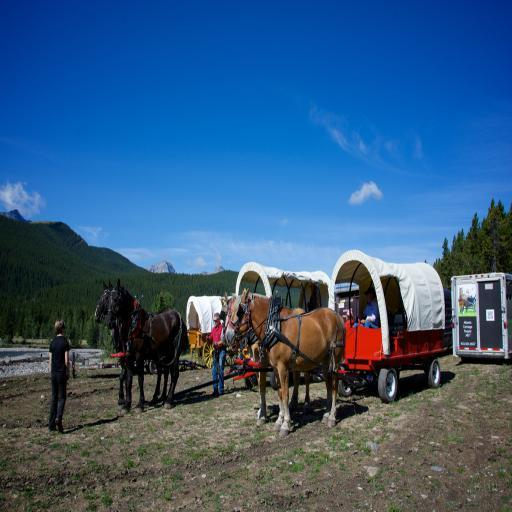horse: (225, 288, 347, 440), (220, 290, 312, 428), (104, 278, 188, 416), (94, 278, 164, 412), (458, 286, 468, 314)
